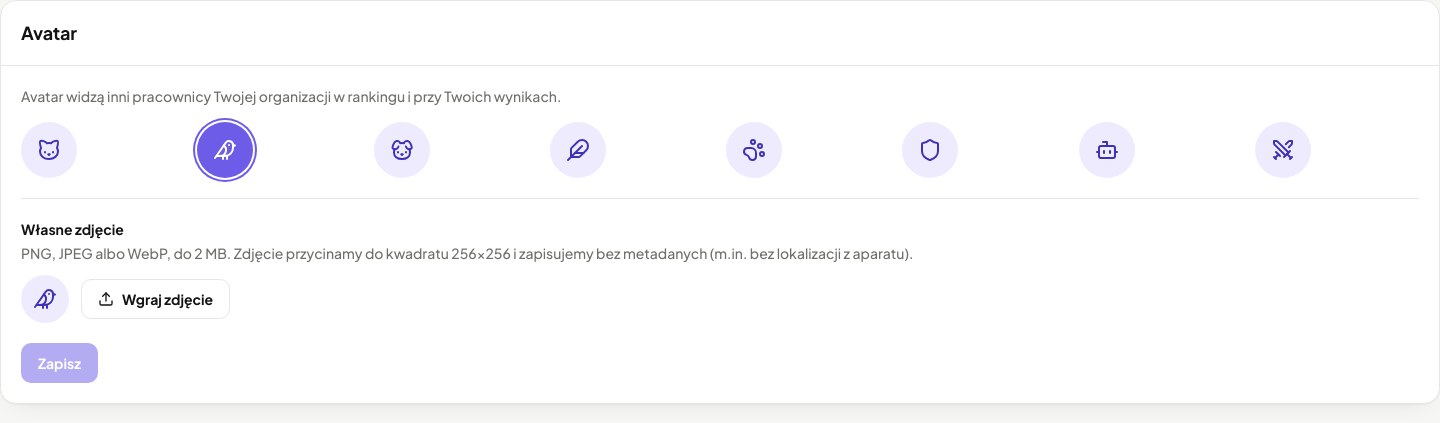
Test case: AvatarSettings (ustawienia konta) › woła PATCH /api/users/me/avatar z wybranym presetem i potwierdza zapis
Click the button named "fox".
click(49, 150)  # box [21,122,77,178]
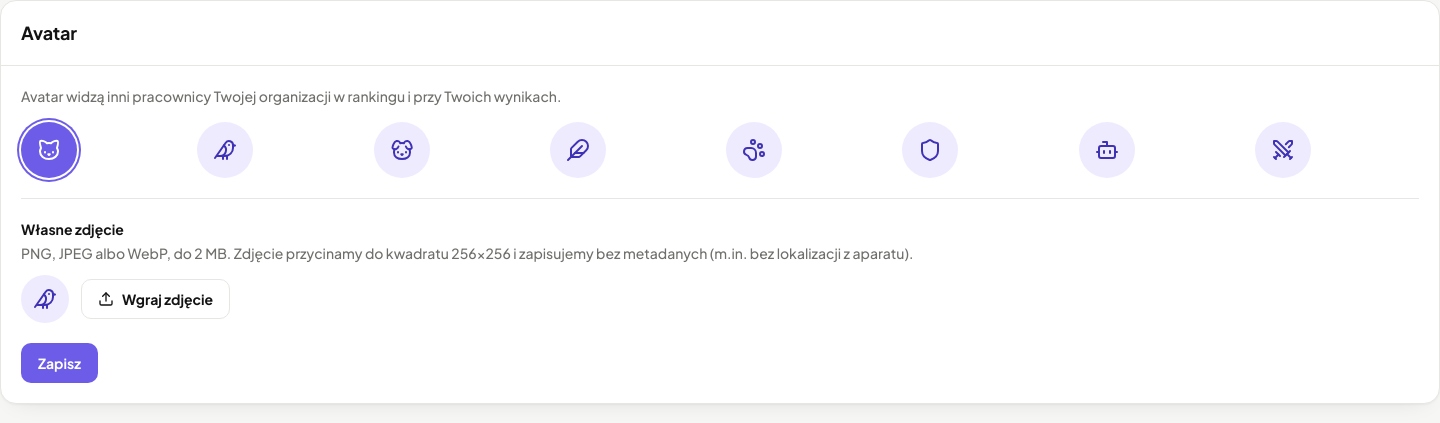
Click the button "Zapisz".
click(60, 363)  # box [21,343,98,383]
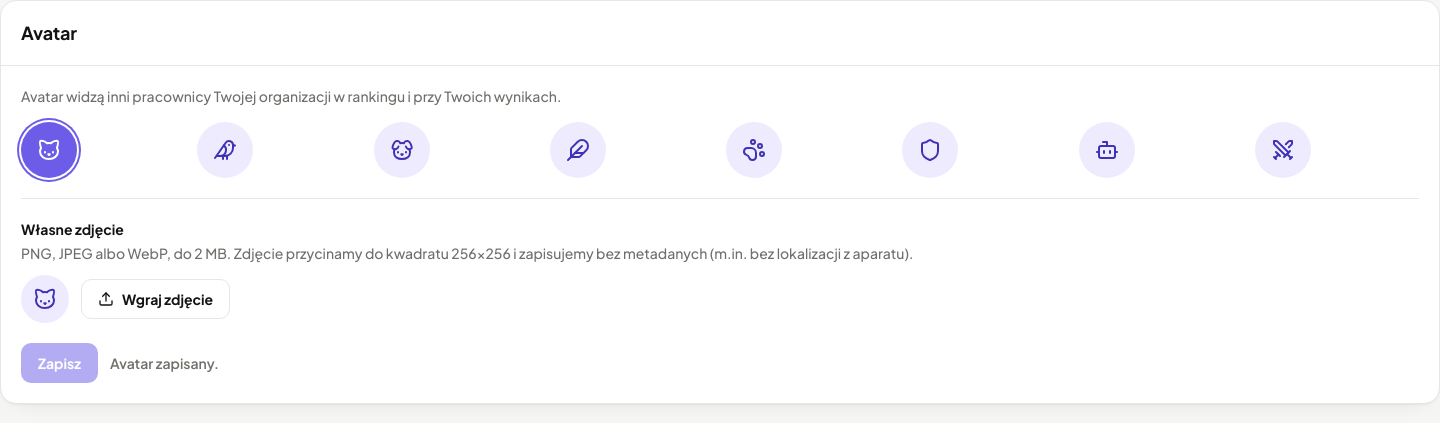
Result: the message reads "Avatar zapisany." at [110,354,219,372]
Result: the button "Zapisz" is disabled at [21,343,98,383]
